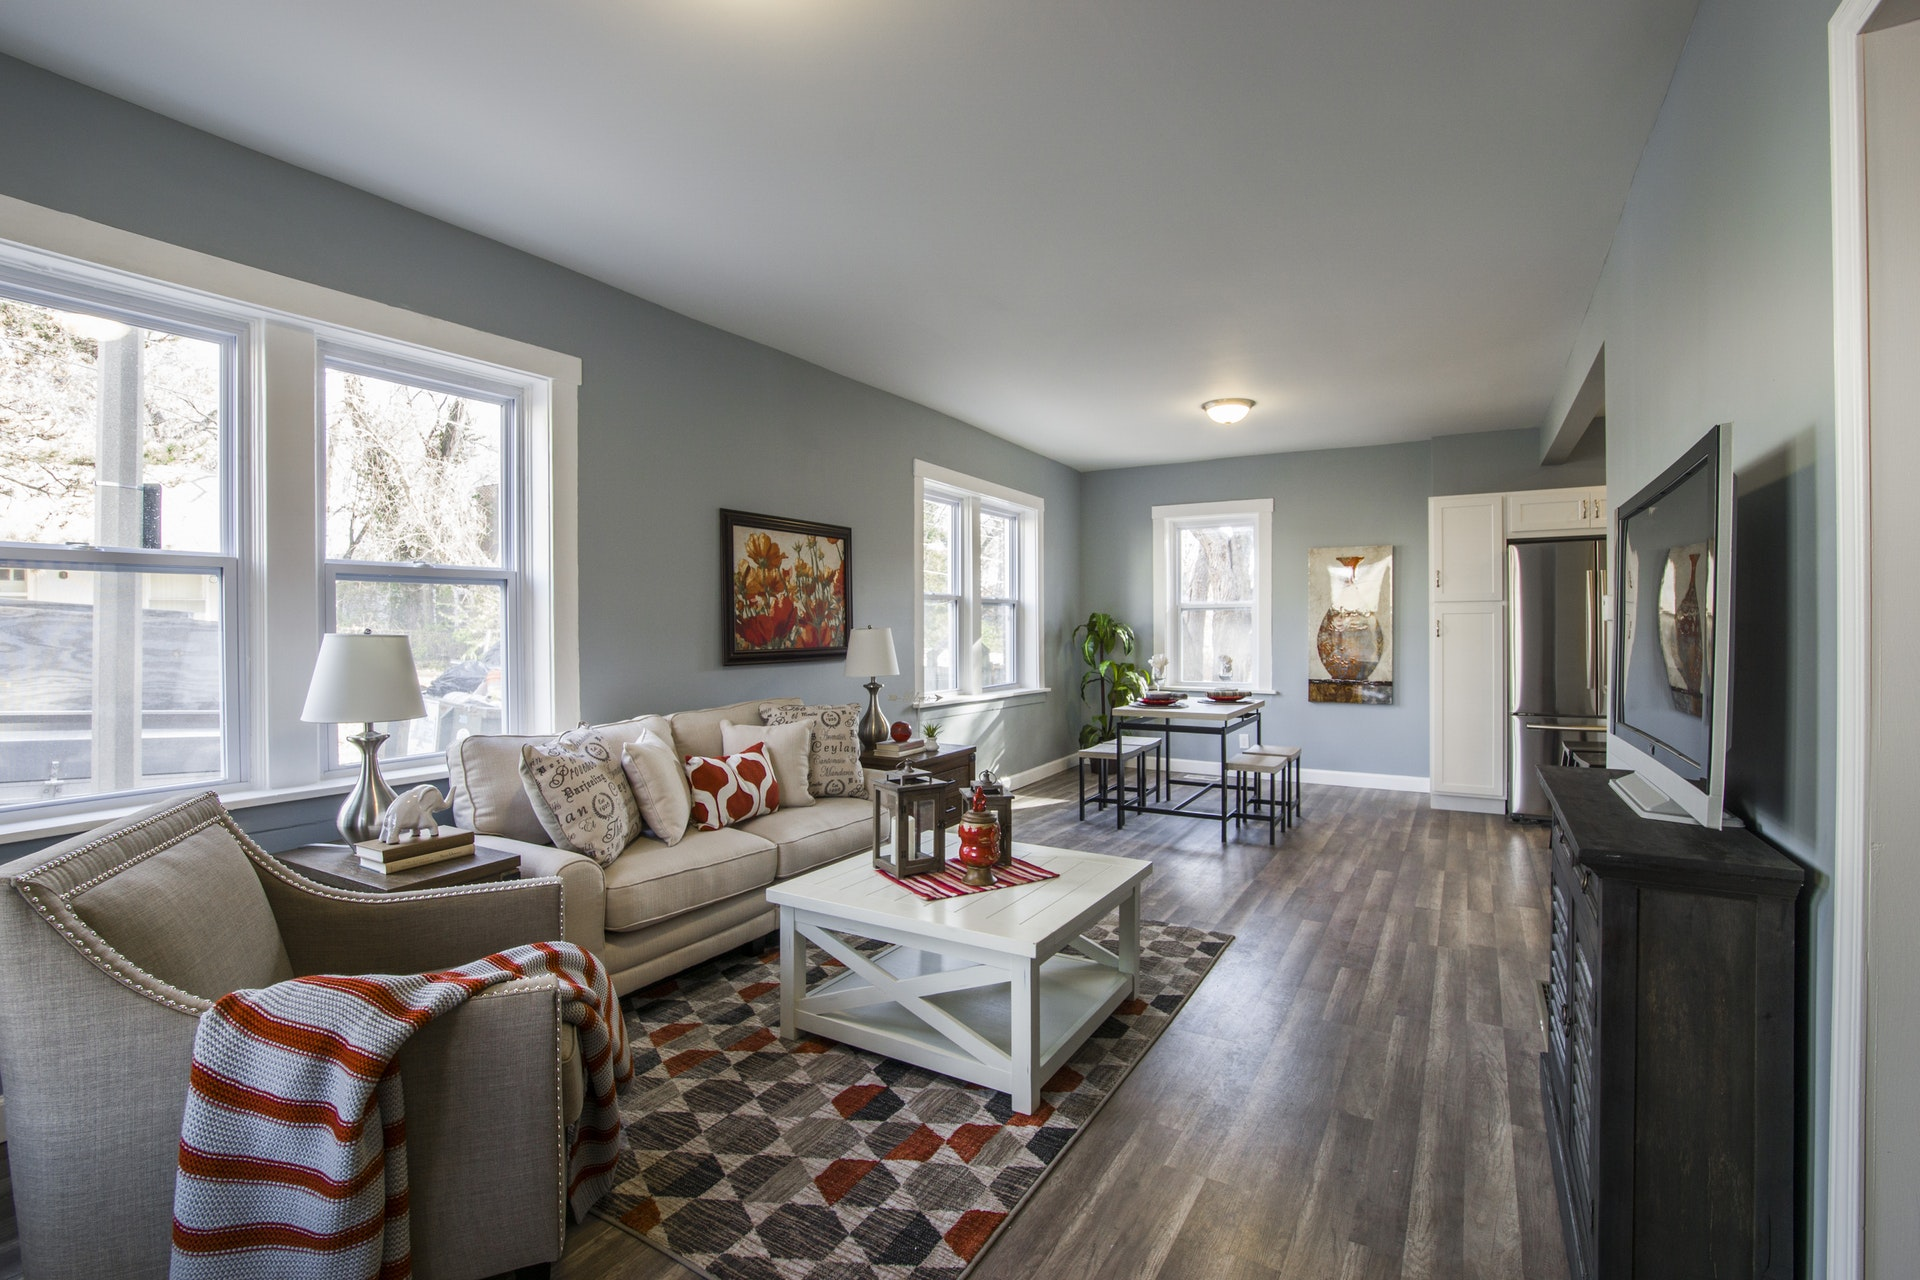putih: (769, 853, 1151, 1099), (311, 634, 423, 720), (381, 783, 454, 839), (841, 631, 900, 677)
